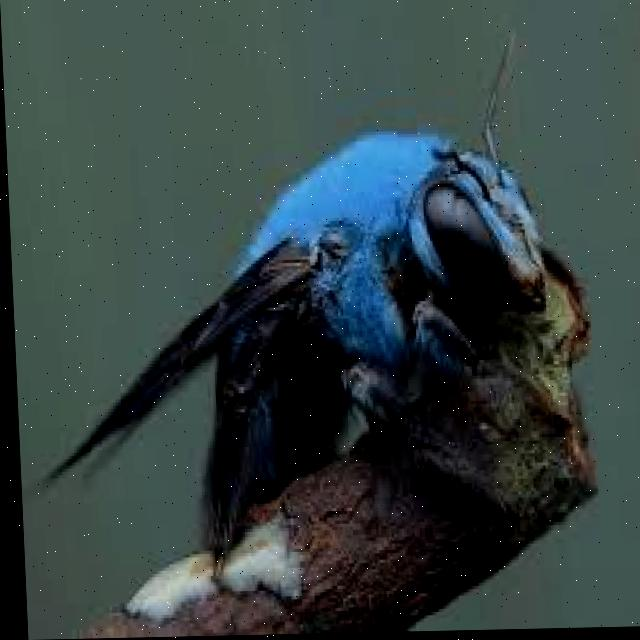Xylocopa: (73, 40, 579, 538)
